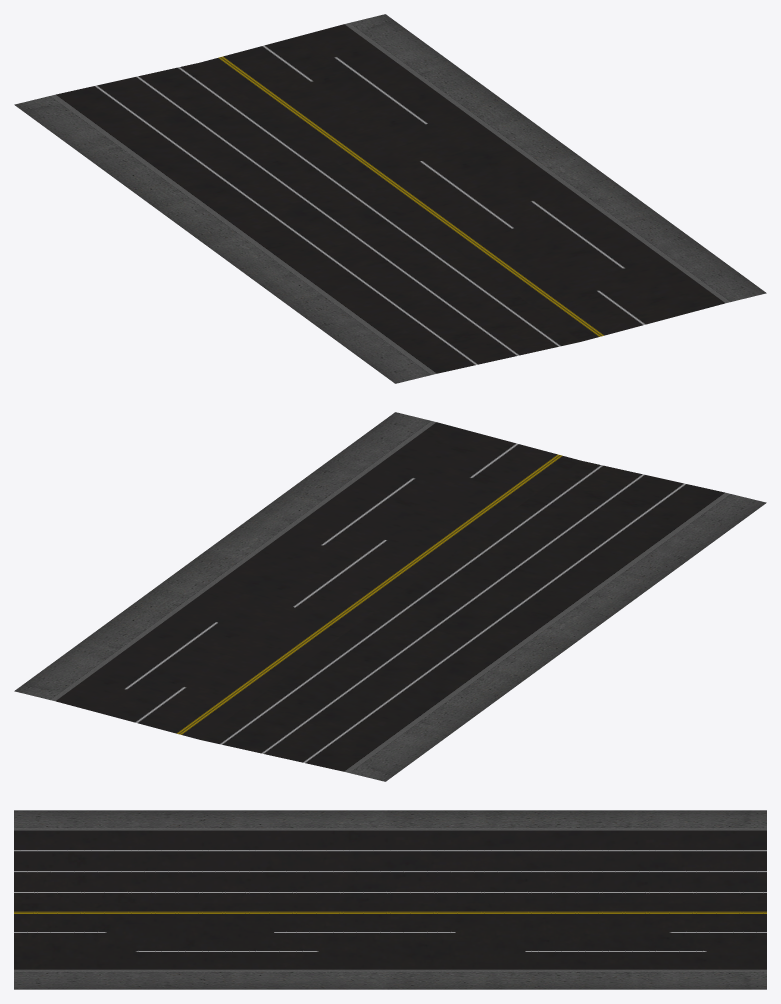
File: RJs_Road 3+4 Basic Segment_F_lod.fbx
The picture shows the model from 3 angles, top to bottom: view 1: azimuth 30°, elevation 25°; view 2: azimuth 150°, elevation 25°; view 3: azimuth 270°, elevation 25°; orthographic projection.
Parts seen in each view (by area): view 1: plane_lod; view 2: plane_lod; view 3: plane_lod.
Boxes of the visible parts, x1,y1,x2,y2 form: plane_lod: (14,14,766,383); plane_lod: (14,412,766,781); plane_lod: (14,810,766,989).
Size of the model in its own units: 3600 by 30.1 by 6400.
